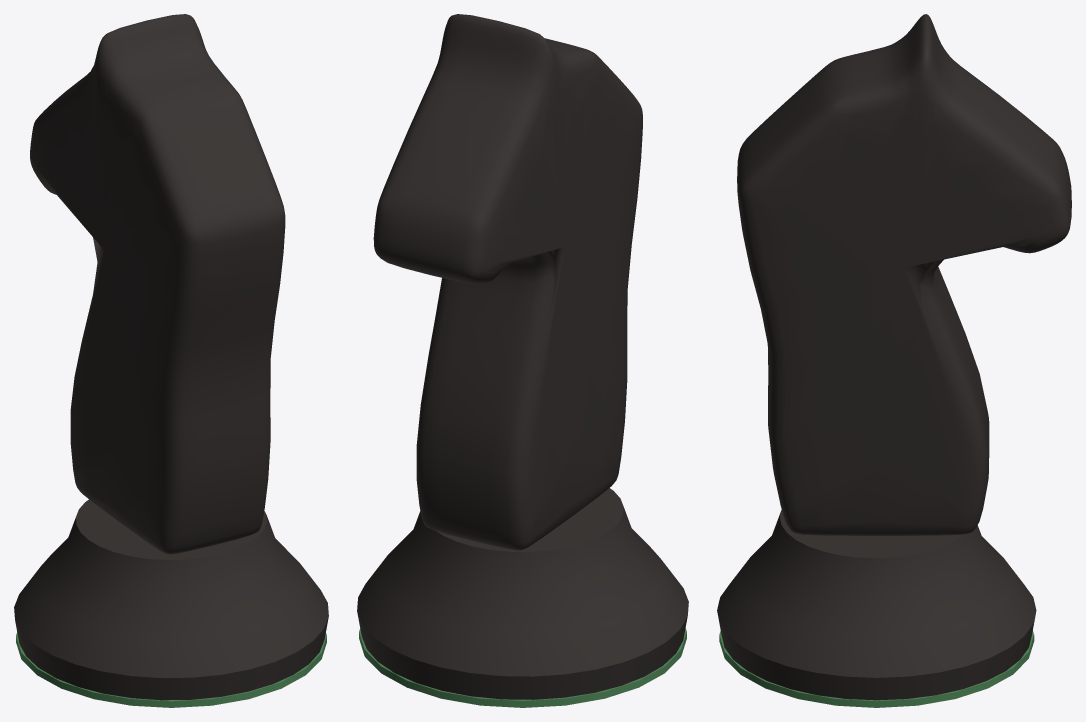
The model's file is chess_knight_b.glb.
3 renders of one model, left to right at view 1: azimuth 30°, elevation 25°; view 2: azimuth 150°, elevation 25°; view 3: azimuth 270°, elevation 25°, orthographic. The views are drawn at different scales.
Parts seen in each view (by area): view 1: Ebony, Felt; view 2: Ebony, Felt; view 3: Ebony, Felt.
Part boxes in pixels (x1=…): Ebony: x1=14, y1=14, x2=328, y2=700; Felt: x1=16, y1=632, x2=326, y2=707; Ebony: x1=357, y1=14, x2=688, y2=699; Felt: x1=359, y1=628, x2=686, y2=707; Ebony: x1=717, y1=14, x2=1071, y2=700; Felt: x1=719, y1=630, x2=1034, y2=707.
Bounding box in the file's own units: 0.0342 × 0.0722 × 0.038.
